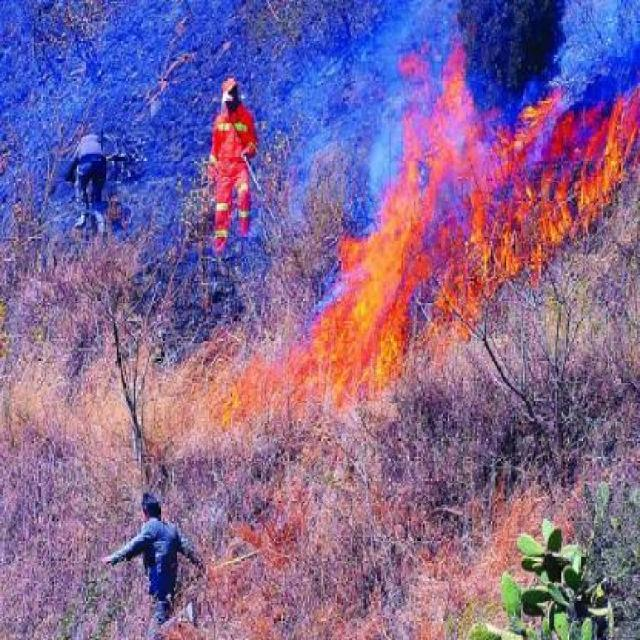Fire: (250, 48, 626, 458)
